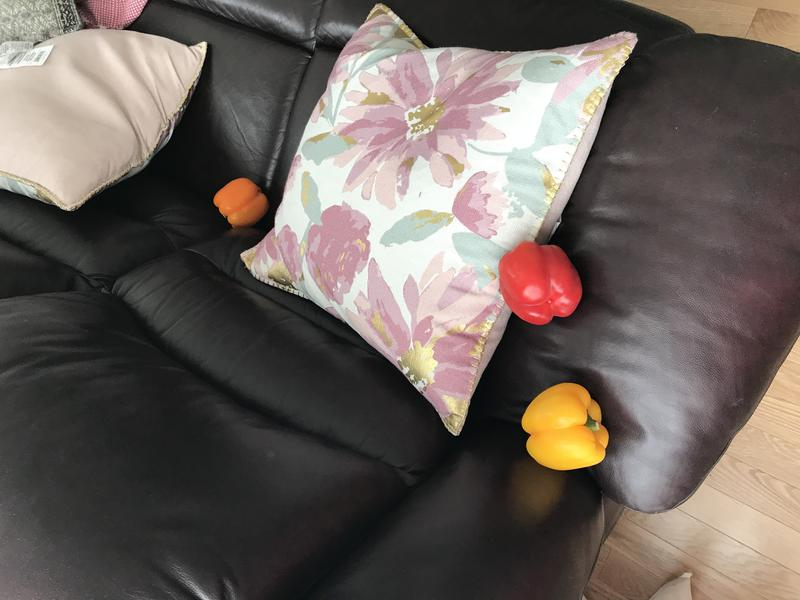orange_pepper: (210, 174, 271, 229)
red_pepper: (491, 236, 589, 327)
yellow_pepper: (513, 375, 618, 481)
